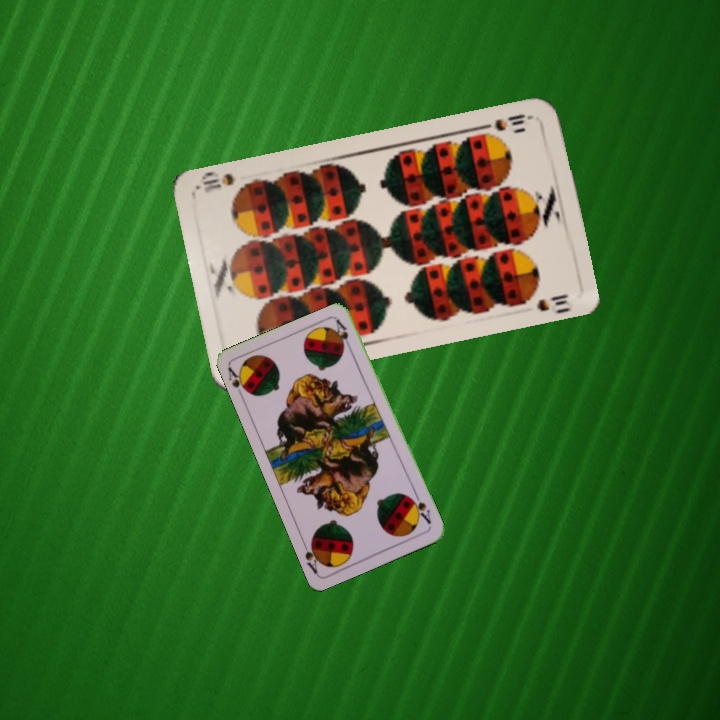S10: (491, 109, 536, 134)
SA: (406, 489, 434, 527), (224, 363, 253, 397)
